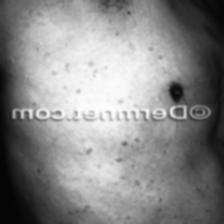Toxin: (17, 58, 129, 108), (81, 130, 146, 188)
